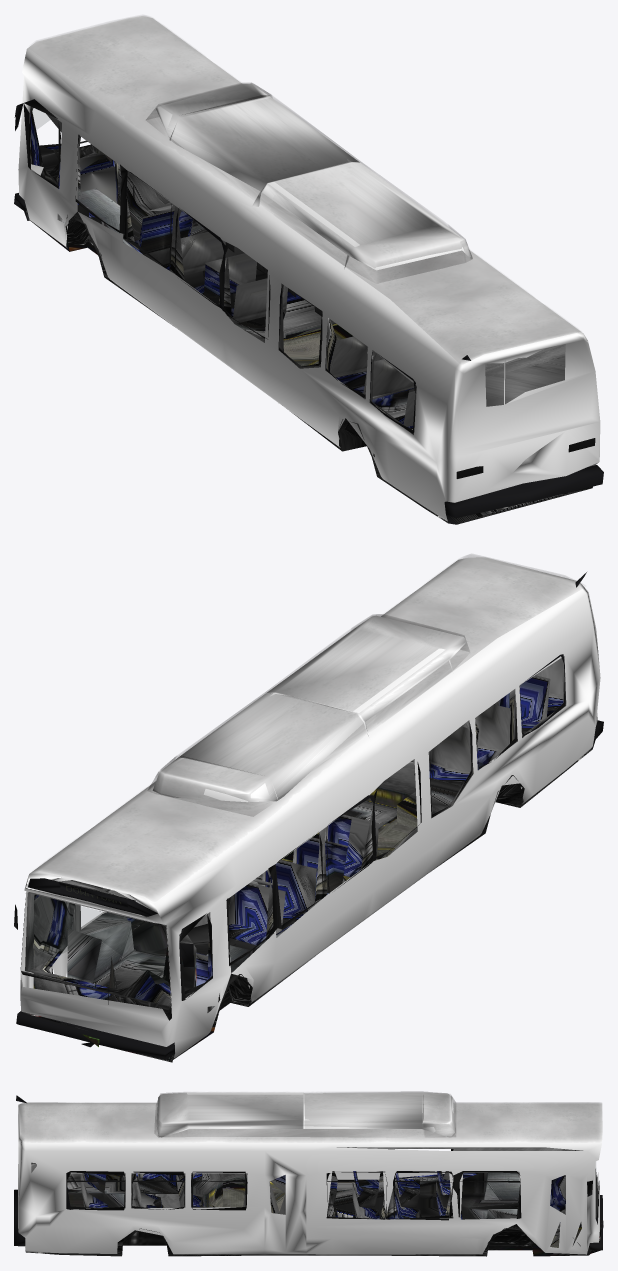
Rendered from bus-lod.glb.
3 views of the same model, one above another, from view 1: azimuth 30°, elevation 25°; view 2: azimuth 150°, elevation 25°; view 3: azimuth 270°, elevation 25° (orthographic). The views are drawn at different scales.
Size of the model in its own units: 3.05 by 3.12 by 13.14.
8 materials, 8 textured.
